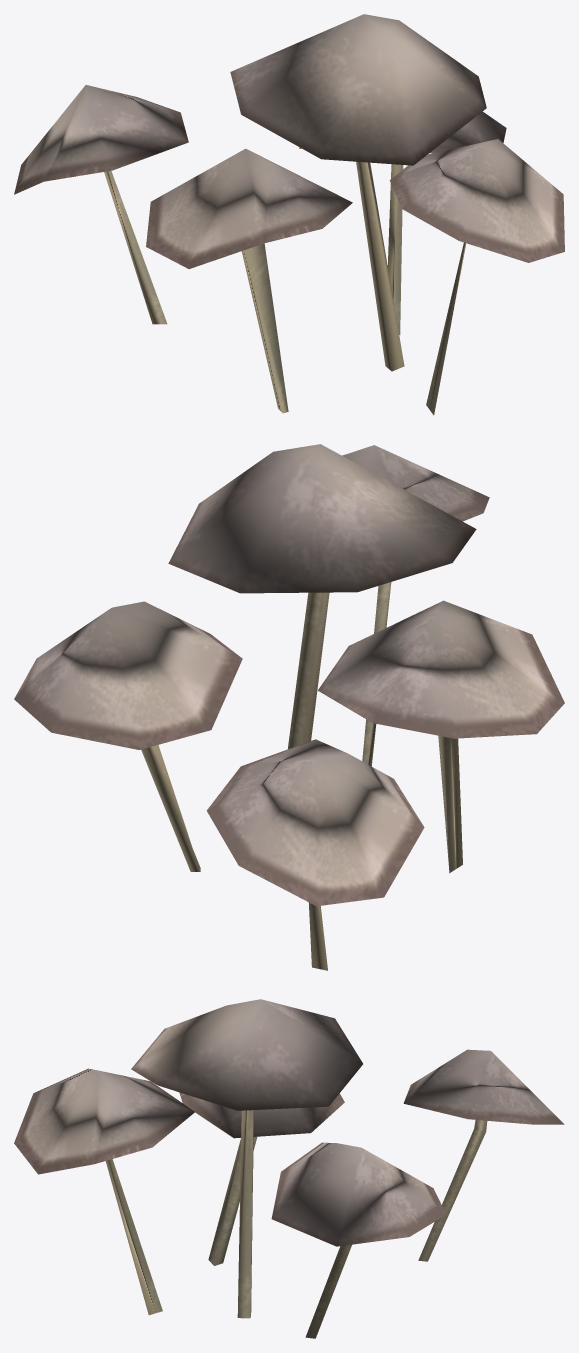
Rendered from mushroom_common.glb.
The picture shows the model from 3 angles, top to bottom: view 1: azimuth 30°, elevation 25°; view 2: azimuth 150°, elevation 25°; view 3: azimuth 270°, elevation 25°; orthographic projection. The views are drawn at different scales.
Parts seen in each view (by area): view 1: Mushroom_Common; view 2: Mushroom_Common; view 3: Mushroom_Common.
Part boxes in pixels (box(x1,y1,x2,y2)): Mushroom_Common: box(14, 14, 564, 415); Mushroom_Common: box(14, 444, 564, 970); Mushroom_Common: box(14, 999, 564, 1338).
Size of the model in its own units: 0.5433 by 0.4635 by 0.7382.
Materials: 1 (1 with a texture image).
